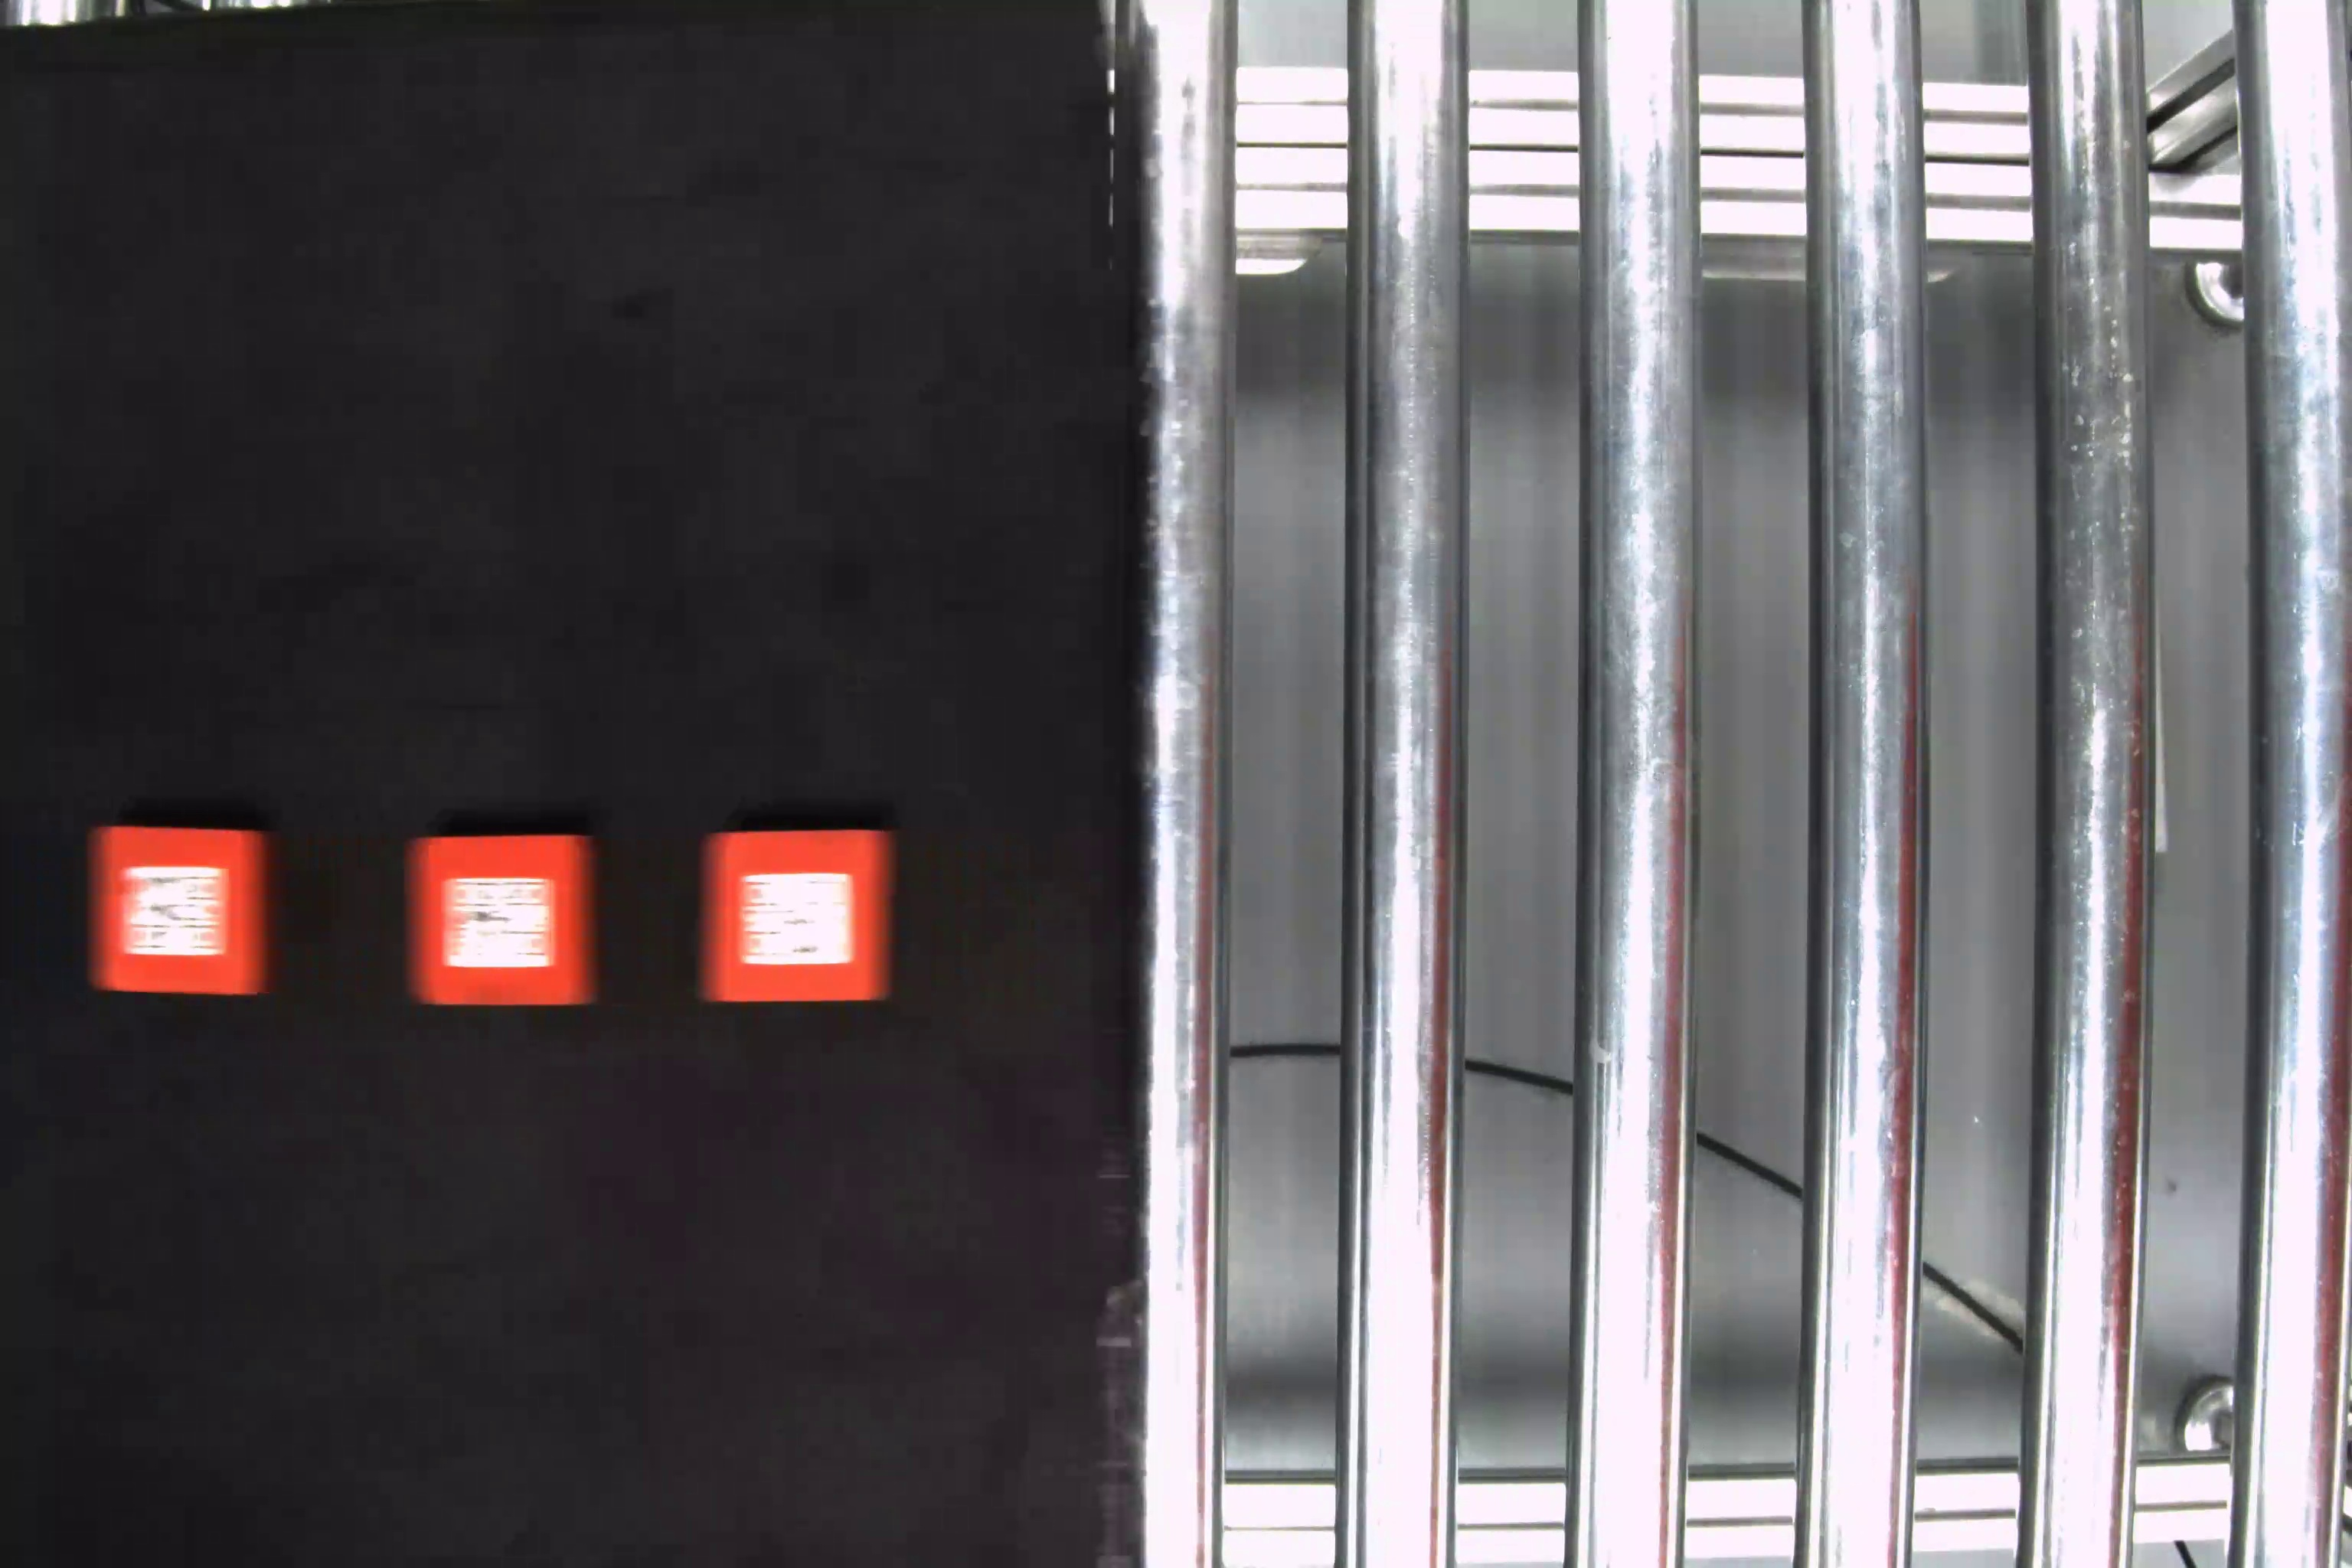wood: (401, 828, 609, 1015), (696, 824, 899, 1006), (82, 824, 287, 1001)
